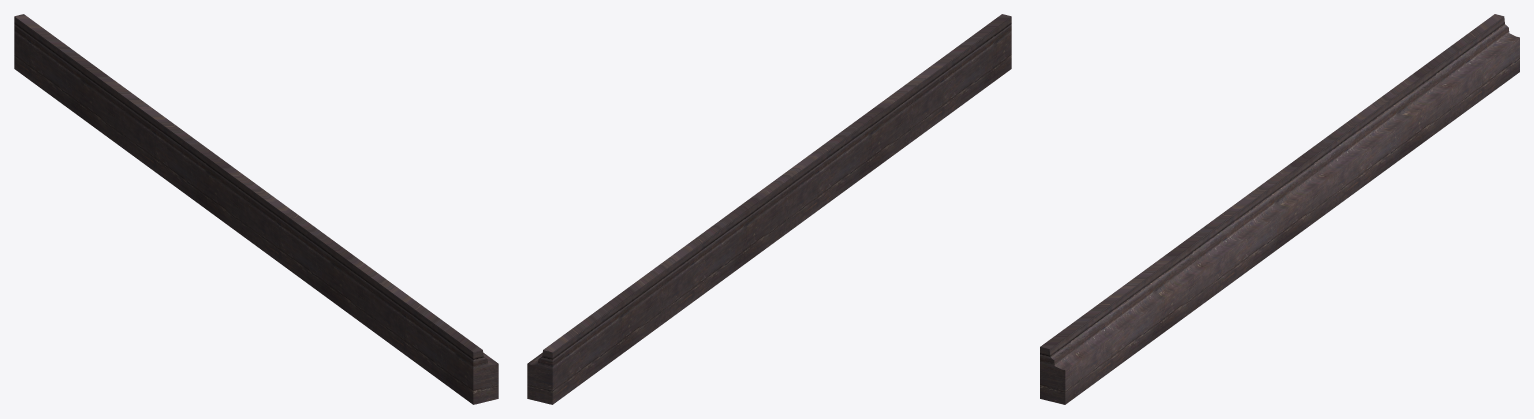
File: souptrim002.obj
3 renders of one model, left to right at view 1: azimuth 30°, elevation 25°; view 2: azimuth 150°, elevation 25°; view 3: azimuth 330°, elevation 25°, orthographic.
Visible parts, largest first — view 1: souptrim002_high_1; view 2: souptrim002_high_1; view 3: souptrim002_high_1.
Boxes of the visible parts, x1,y1,x2,y2 form: souptrim002_high_1: [14, 14, 498, 404]; souptrim002_high_1: [527, 14, 1011, 404]; souptrim002_high_1: [1040, 14, 1519, 404].
Size of the model in its own units: 0.0861 by 0.1712 by 2.71.
